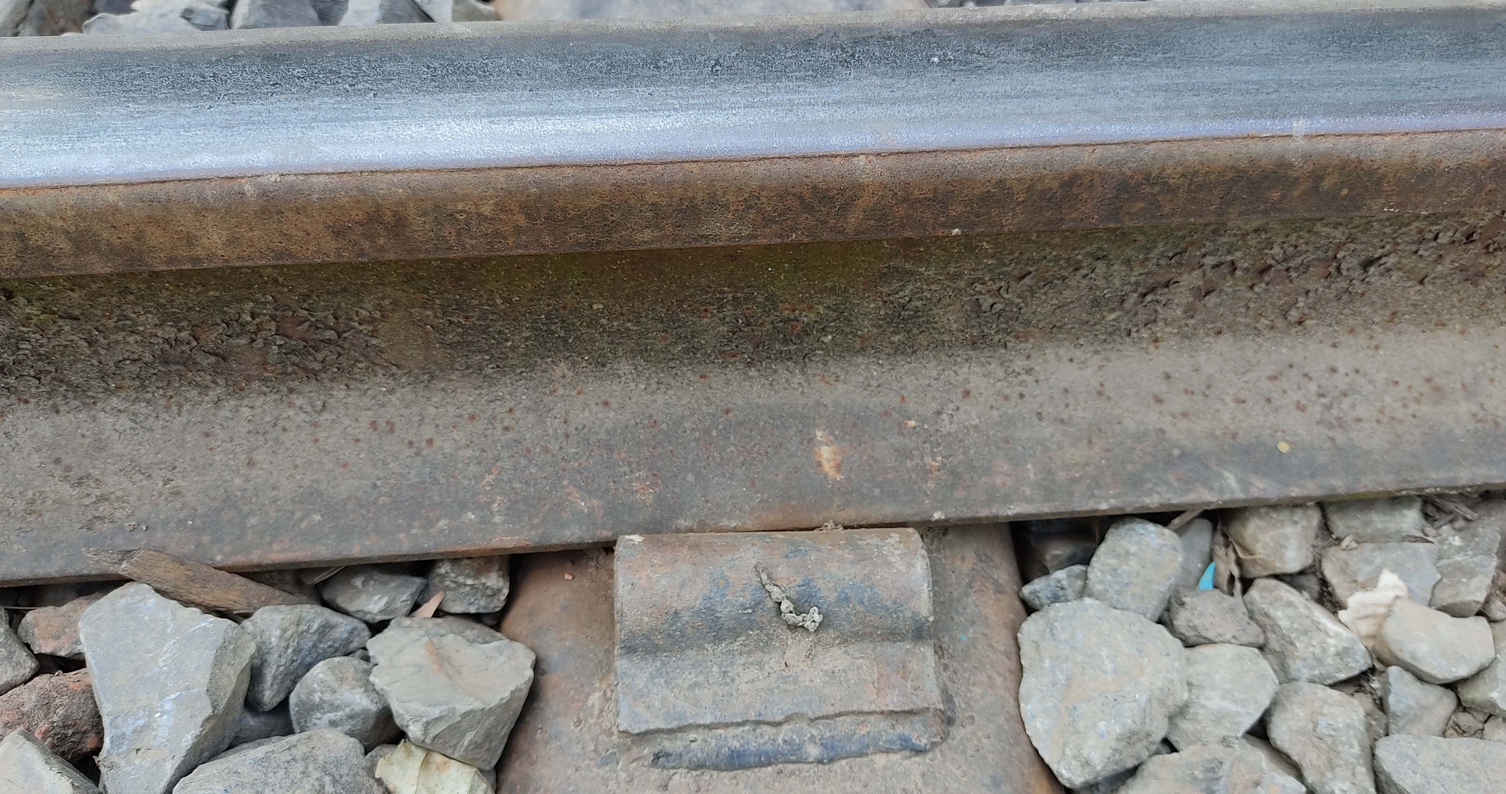loss: (606, 508, 961, 772)
